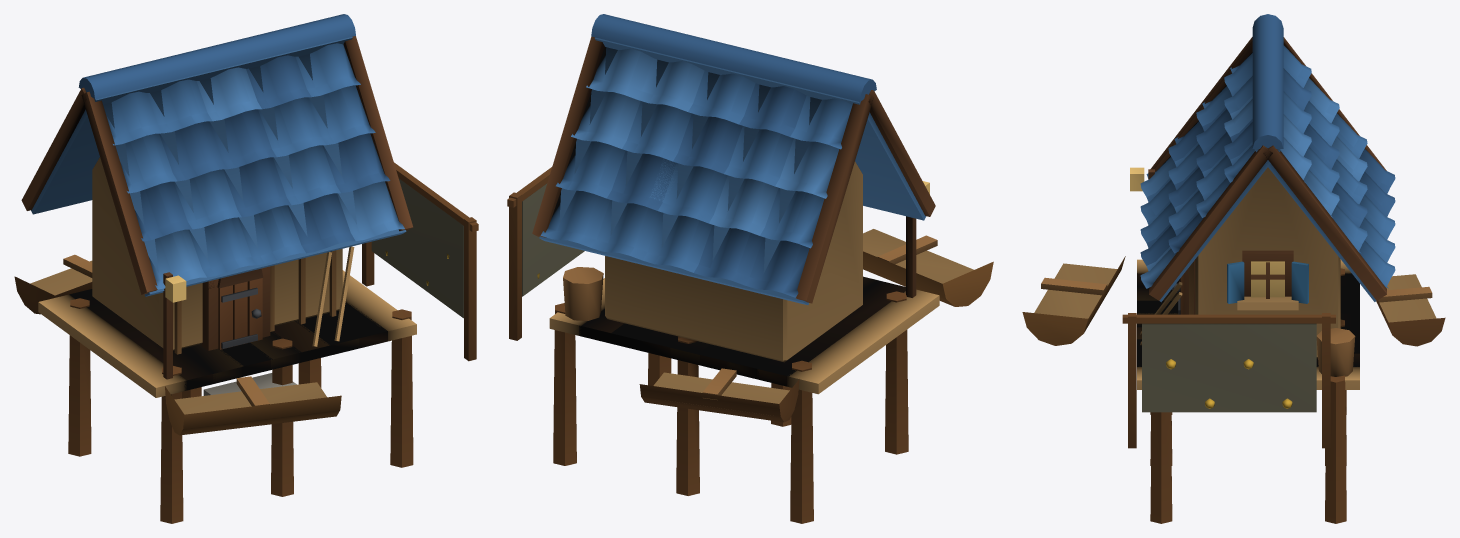
The model's file is fisher.glb.
3 views of the same model, side by side, from view 1: azimuth 30°, elevation 25°; view 2: azimuth 150°, elevation 25°; view 3: azimuth 270°, elevation 25° (orthographic). The views are drawn at different scales.
Parts seen in each view (by area): view 1: fisher_l1, fisher_l3, fisher_l2; view 2: fisher_l1, fisher_l3, fisher_l2; view 3: fisher_l1, fisher_l3, fisher_l2.
Boxes of the visible parts, left/top/right/bottom form: fisher_l1: left=21, top=14, right=478, bottom=523; fisher_l3: left=14, top=254, right=186, bottom=379; fisher_l2: left=312, top=246, right=354, bottom=346; fisher_l1: left=507, top=14, right=993, bottom=523; fisher_l3: left=639, top=181, right=929, bottom=422; fisher_l2: left=563, top=159, right=678, bottom=320; fisher_l1: left=1022, top=14, right=1395, bottom=523; fisher_l3: left=1130, top=167, right=1445, bottom=346; fisher_l2: left=1140, top=281, right=1355, bottom=376.
Bounding box in the file's own units: 0.7479 × 0.876 × 0.873.
